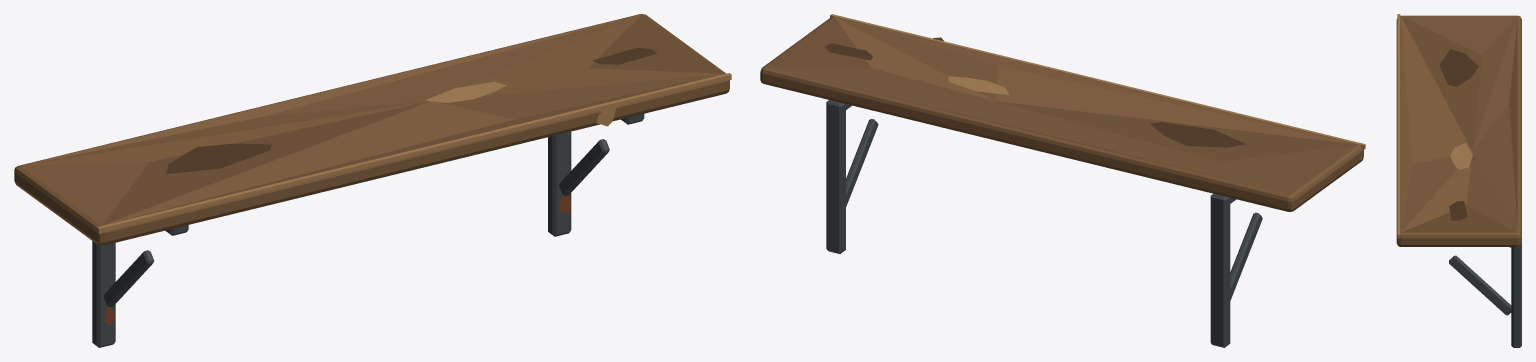
File: shelf_wood_derevyannaya_idle.glb
The picture shows the model from 3 angles, left to right: view 1: azimuth 30°, elevation 25°; view 2: azimuth 150°, elevation 25°; view 3: azimuth 270°, elevation 25°; orthographic projection. The views are drawn at different scales.
Visible parts, largest first — view 1: shelf_wood_derevyannaya_idle; view 2: shelf_wood_derevyannaya_idle; view 3: shelf_wood_derevyannaya_idle.
Part boxes in pixels (x1,y1,x2,y2): shelf_wood_derevyannaya_idle: (14, 14, 731, 347); shelf_wood_derevyannaya_idle: (760, 14, 1365, 347); shelf_wood_derevyannaya_idle: (1396, 14, 1521, 347).
Bounding box in the file's own units: 1 × 0.303 × 0.245.
1 material, 1 textured.
